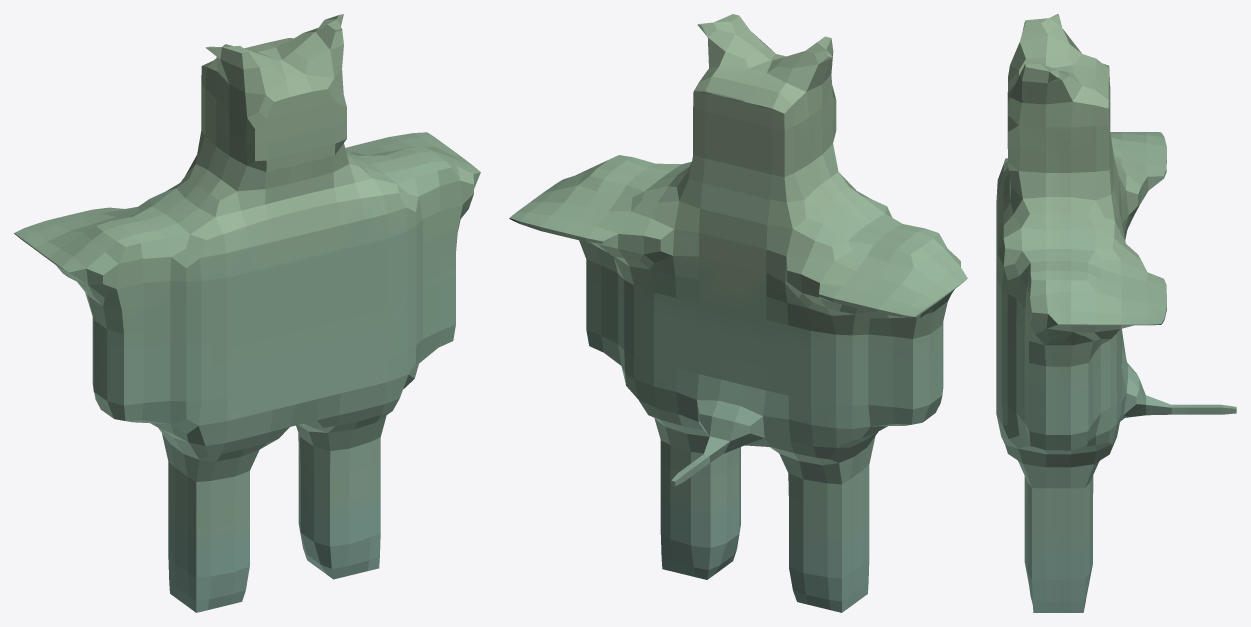
The model's file is imp.glb.
3 renders of one model, left to right at view 1: azimuth 30°, elevation 25°; view 2: azimuth 150°, elevation 25°; view 3: azimuth 270°, elevation 25°, orthographic. The views are drawn at different scales.
Parts seen in each view (by area): view 1: geometry_0; view 2: geometry_0; view 3: geometry_0.
Boxes of the visible parts, <box> form: geometry_0: <box>14,14,480,612</box>; geometry_0: <box>509,14,967,612</box>; geometry_0: <box>996,14,1236,612</box>.
Size of the model in its own units: 0.7553 by 0.963 by 0.3981.
1 material, 1 textured.
